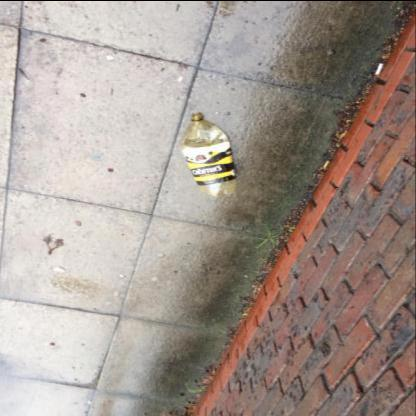Bottle cap: (179, 112, 237, 196)
Cigarette: (375, 63, 383, 74), (324, 159, 330, 167)
